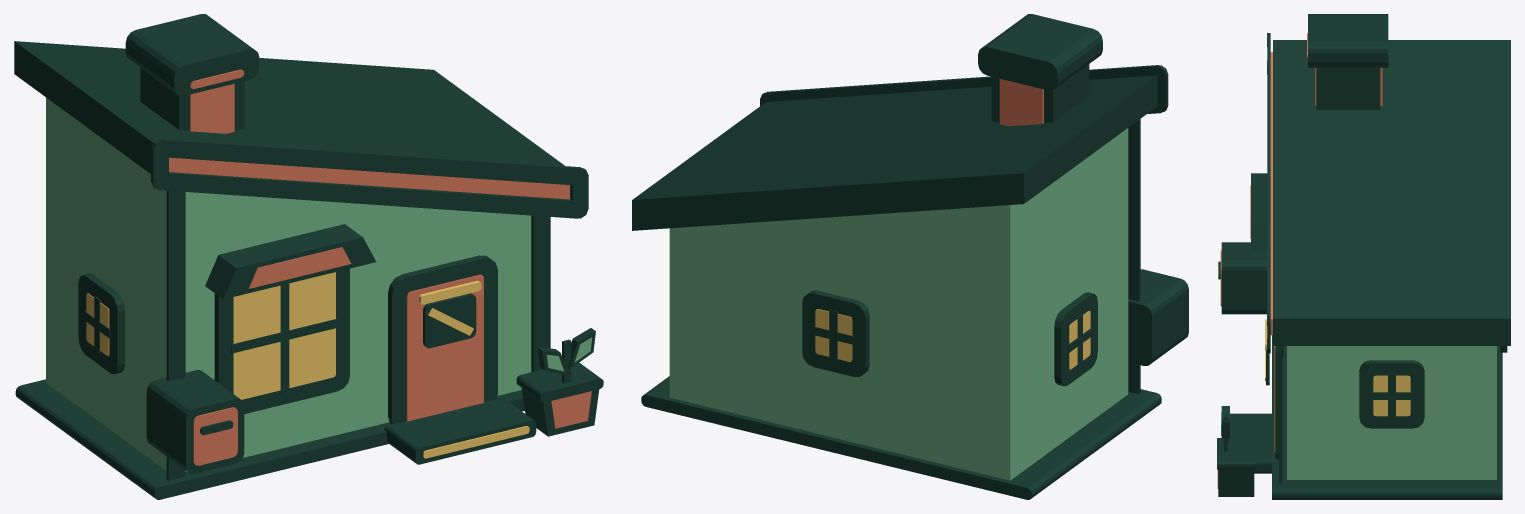
3 renders of one model, left to right at view 1: azimuth 30°, elevation 25°; view 2: azimuth 150°, elevation 25°; view 3: azimuth 270°, elevation 25°, orthographic. The views are drawn at different scales.
Parts seen in each view (by area): view 1: Rent Free house; view 2: Rent Free house; view 3: Rent Free house.
Boxes of the visible parts, box(x1,y1,x2,y2) form: Rent Free house: box(14, 14, 603, 499); Rent Free house: box(632, 14, 1188, 499); Rent Free house: box(1217, 14, 1510, 499).
Size of the model in its own units: 1.02 by 0.9143 by 0.72.
